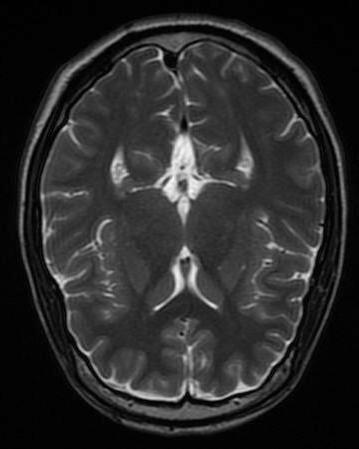Normal_Brain: (1, 5, 359, 449)
